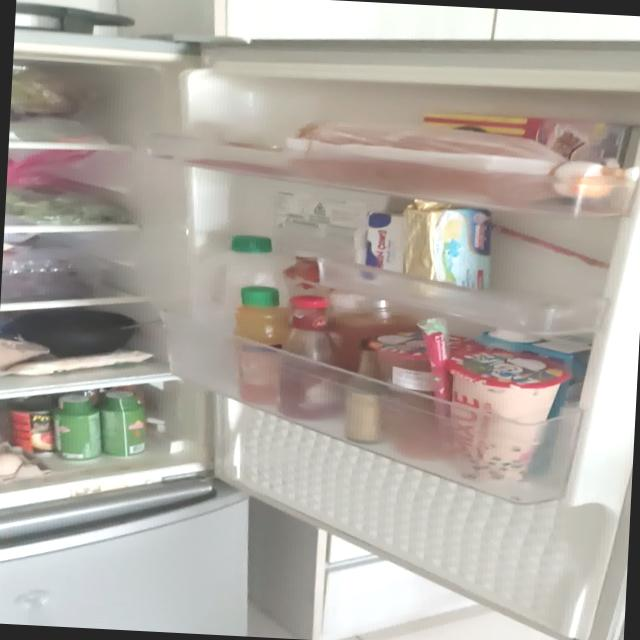egg: (0, 441, 54, 487)
tempeh: (5, 344, 152, 382)
